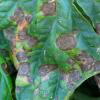Potato leaf late blight: (1, 0, 100, 100)
